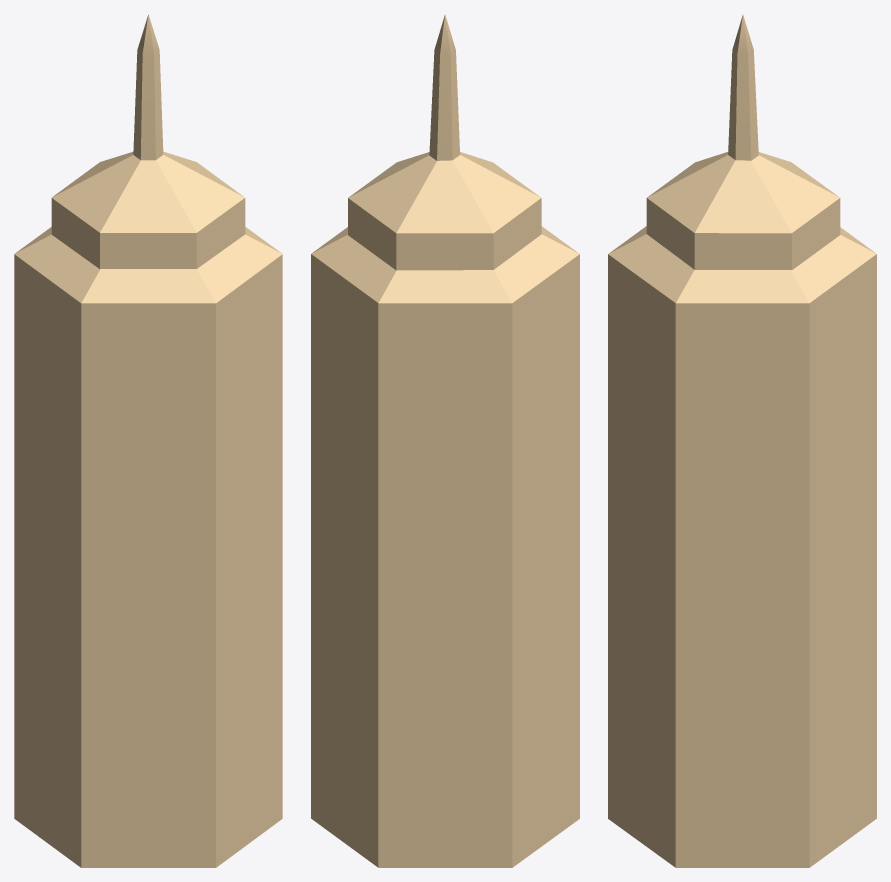
File: BotellaMayonesa.fbx
3 renders of one model, left to right at view 1: azimuth 30°, elevation 25°; view 2: azimuth 150°, elevation 25°; view 3: azimuth 270°, elevation 25°, orthographic.
Parts seen in each view (by area): view 1: BotellaMayonesa; view 2: BotellaMayonesa; view 3: BotellaMayonesa.
Boxes of the visible parts, box(x1,y1,x2,y2) form: BotellaMayonesa: box(14, 14, 282, 867); BotellaMayonesa: box(311, 14, 579, 867); BotellaMayonesa: box(608, 15, 876, 867).
Bounding box in the file's own units: 0.0502 × 0.1912 × 0.0579.
